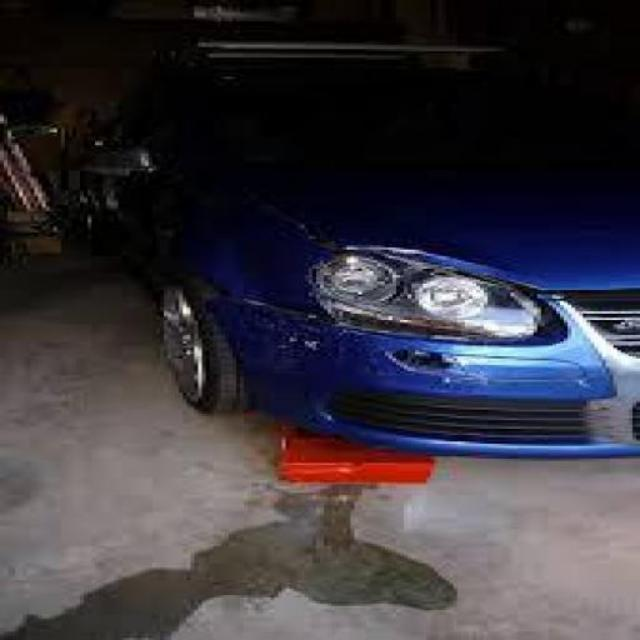crack: (275, 328, 338, 353)
lamp broken: (243, 236, 572, 353)
no part: (386, 350, 458, 377)
